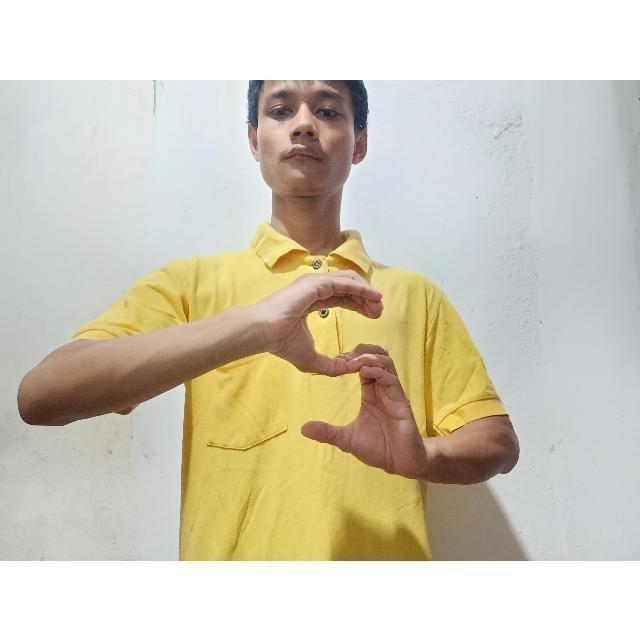S: (256, 268, 433, 480)
